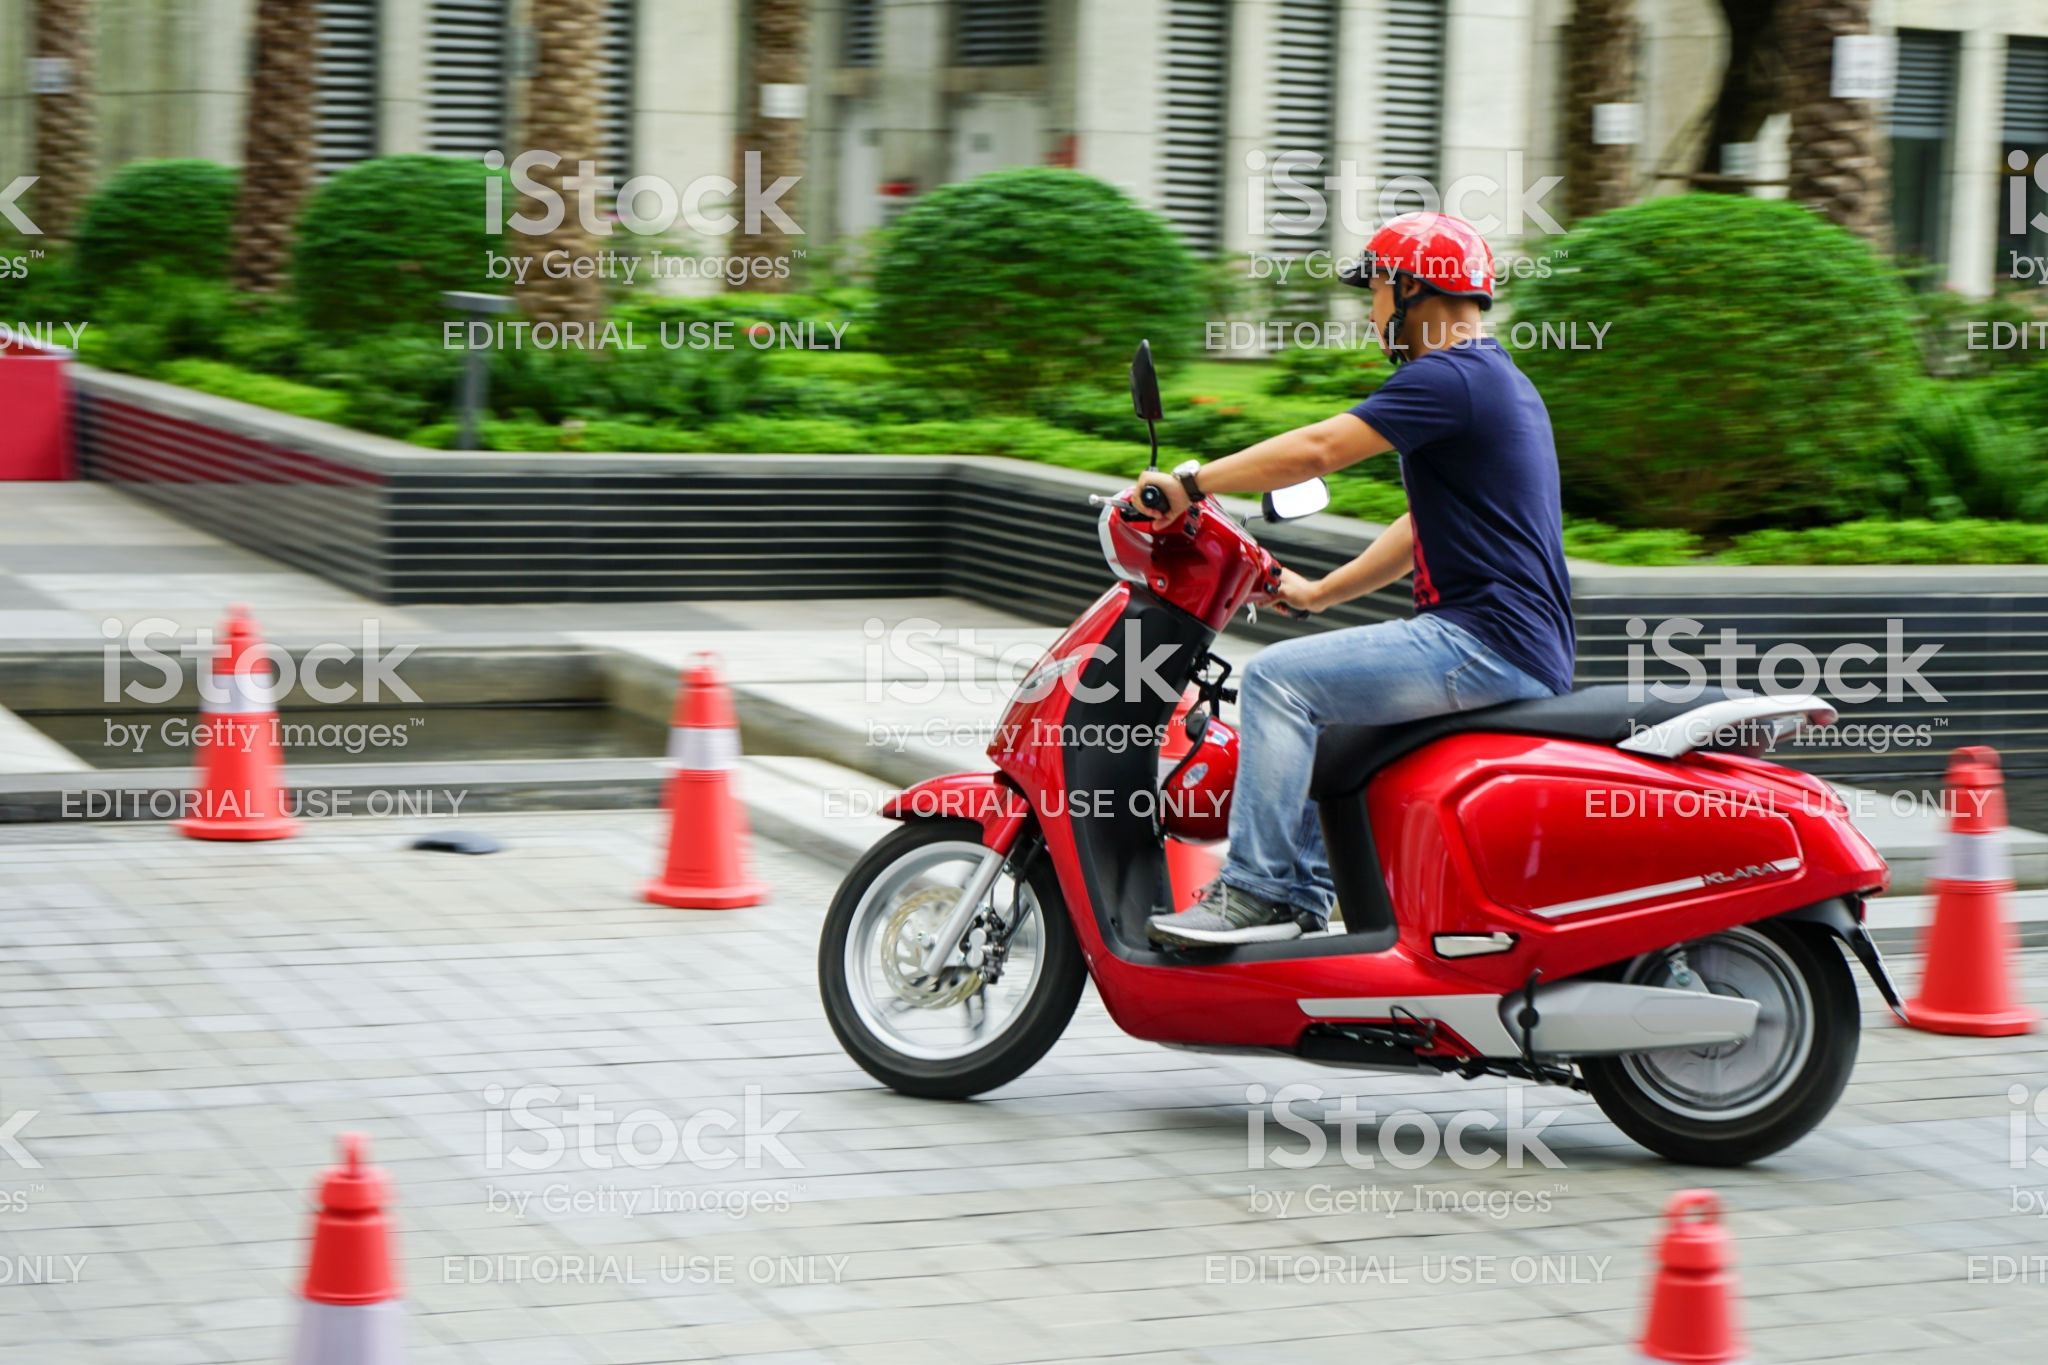helmet: (1338, 219, 1482, 340)
